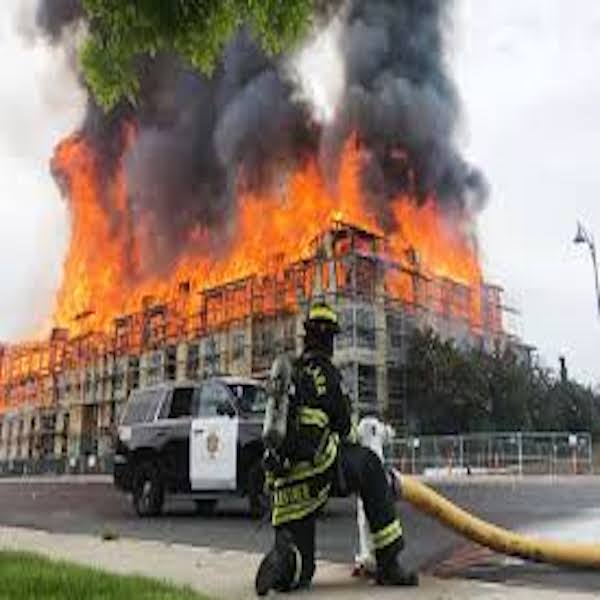fire: (48, 132, 478, 230), (140, 237, 261, 296), (59, 232, 132, 329), (404, 230, 483, 295), (264, 235, 337, 303), (175, 303, 251, 327), (1, 350, 52, 379)
